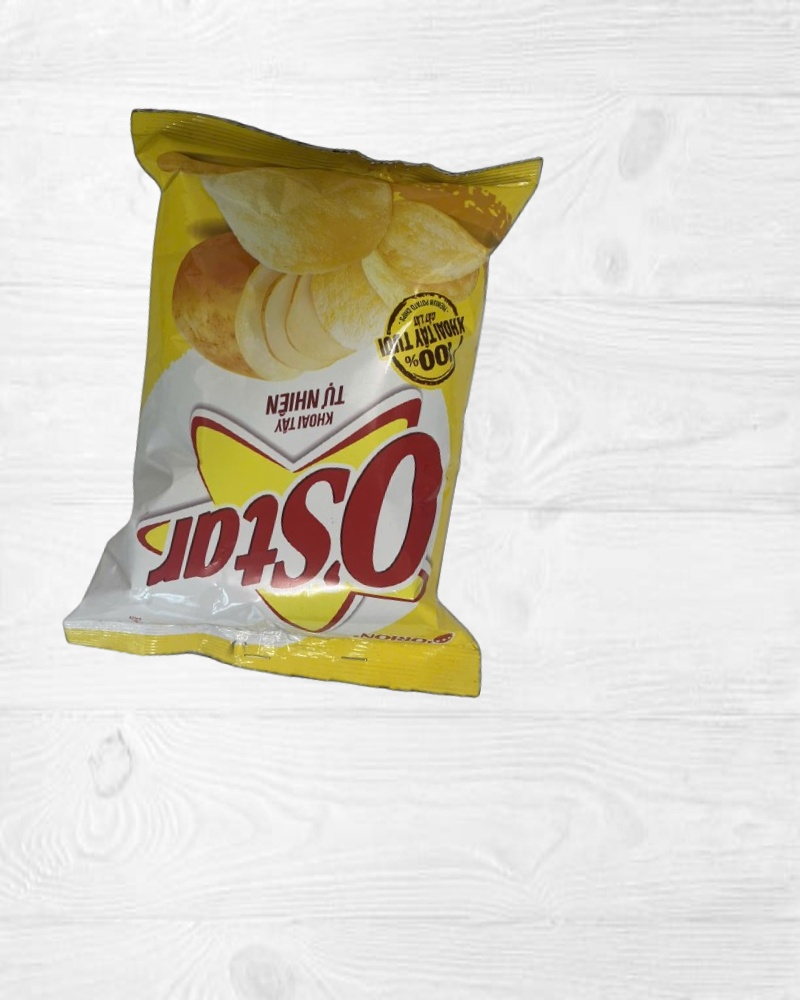Snack cua: (46, 94, 570, 709)
